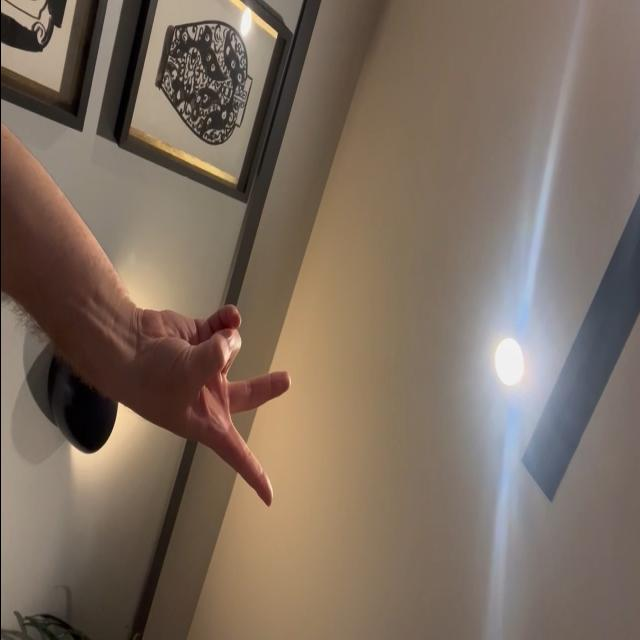Scissors: (127, 304, 290, 508)
